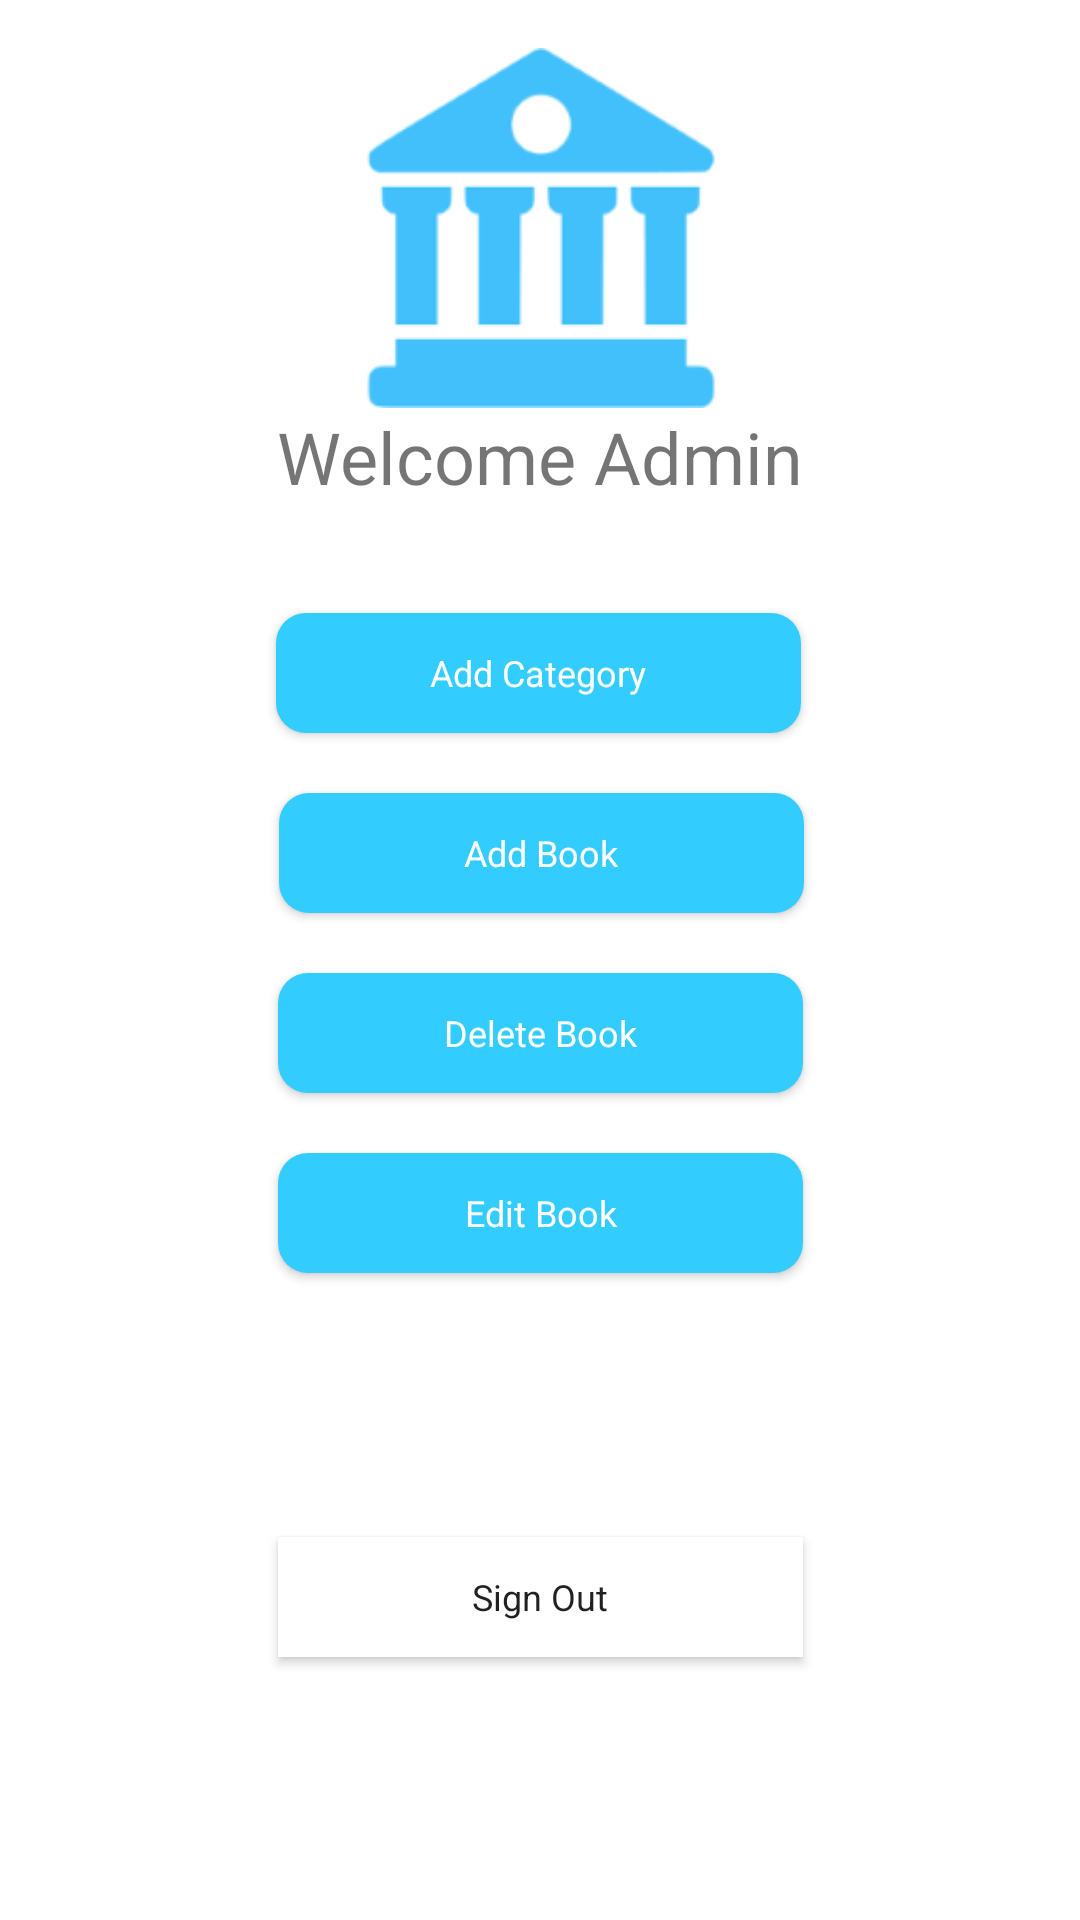

Locate icon controls on the screen. Image size 1080w x 1920h, boxes as (x1, y1, x2, y2).
appicon: (367, 48, 715, 408)
